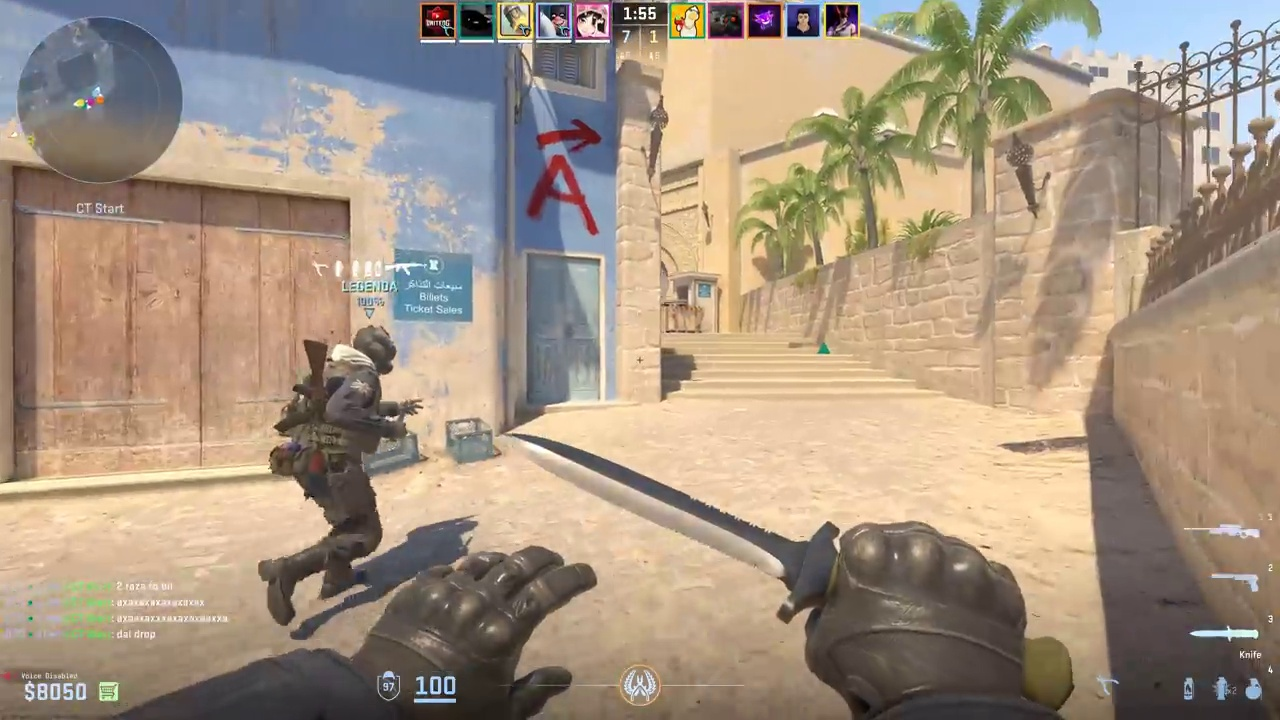CT: (273, 325, 397, 622)
